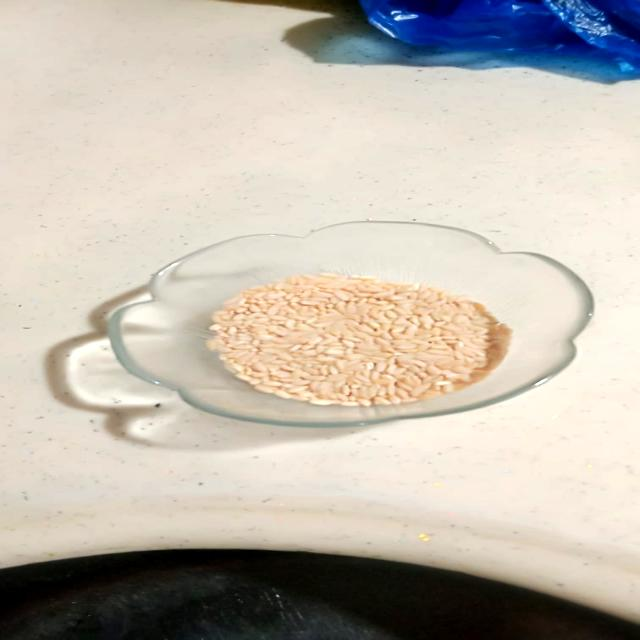rice: (163, 263, 554, 412)
